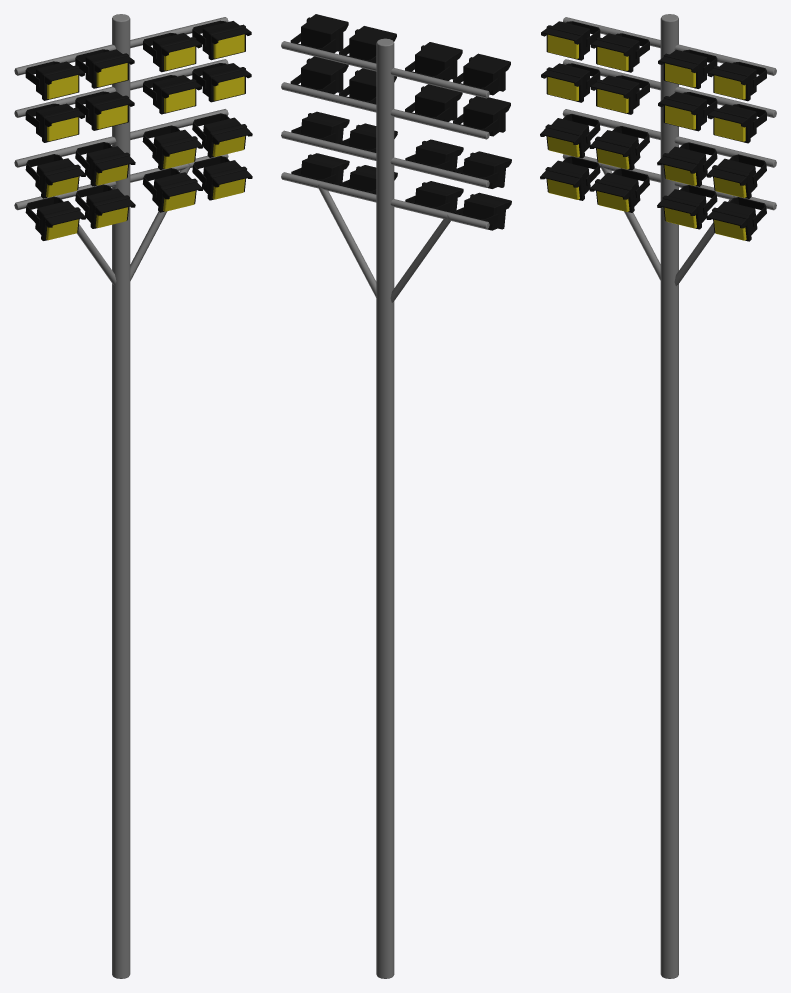
The model's file is SM_floodlights_01.fbx.
The picture shows the model from 3 angles, left to right: view 1: azimuth 30°, elevation 25°; view 2: azimuth 150°, elevation 25°; view 3: azimuth 330°, elevation 25°; orthographic projection. The views are drawn at different scales.
Visible parts, largest first — view 1: floodlights; view 2: floodlights; view 3: floodlights.
Part boxes in pixels (left/top/right/bottom): floodlights: left=14, top=14, right=252, bottom=978; floodlights: left=281, top=14, right=511, bottom=978; floodlights: left=540, top=14, right=776, bottom=978.
Size of the model in its own units: 83.78 by 364 by 24.06.
